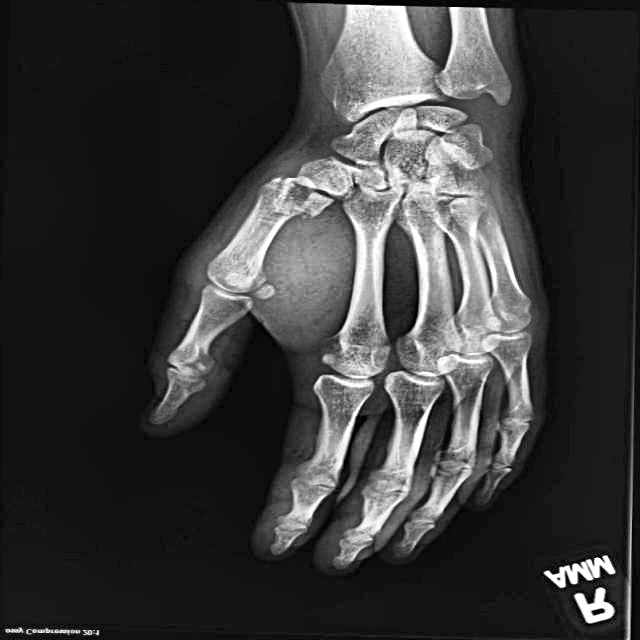Comminuted: (258, 167, 345, 228)
